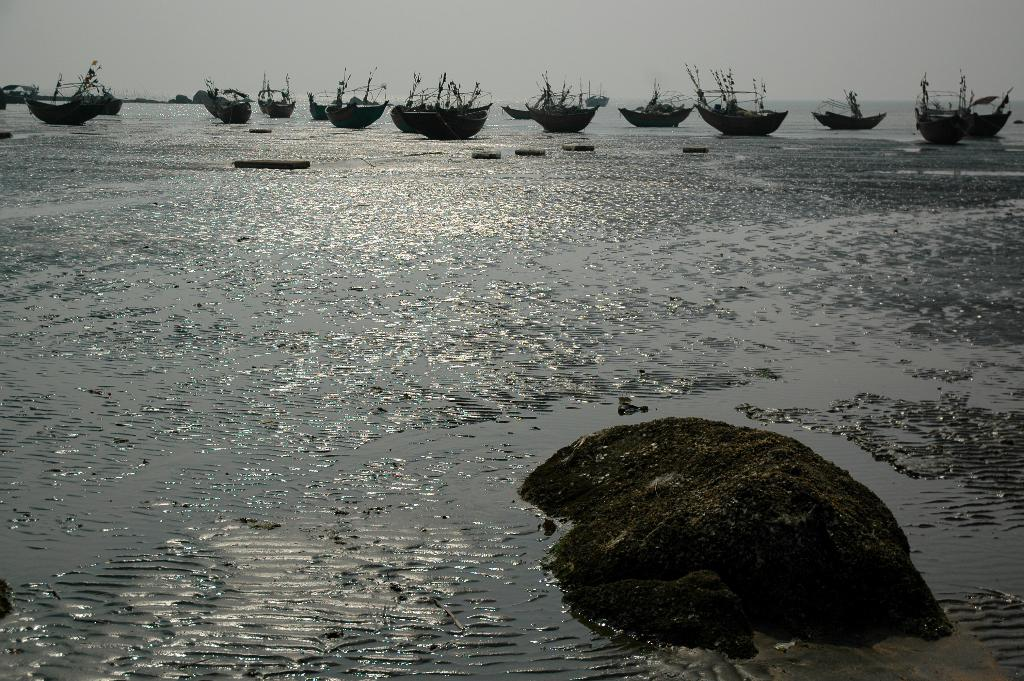boat: (687, 61, 804, 144), (908, 61, 1022, 145), (20, 53, 116, 137), (409, 70, 504, 152), (523, 70, 603, 142), (614, 77, 707, 138), (804, 80, 898, 138), (322, 65, 389, 136), (191, 75, 258, 131), (254, 61, 299, 124)
